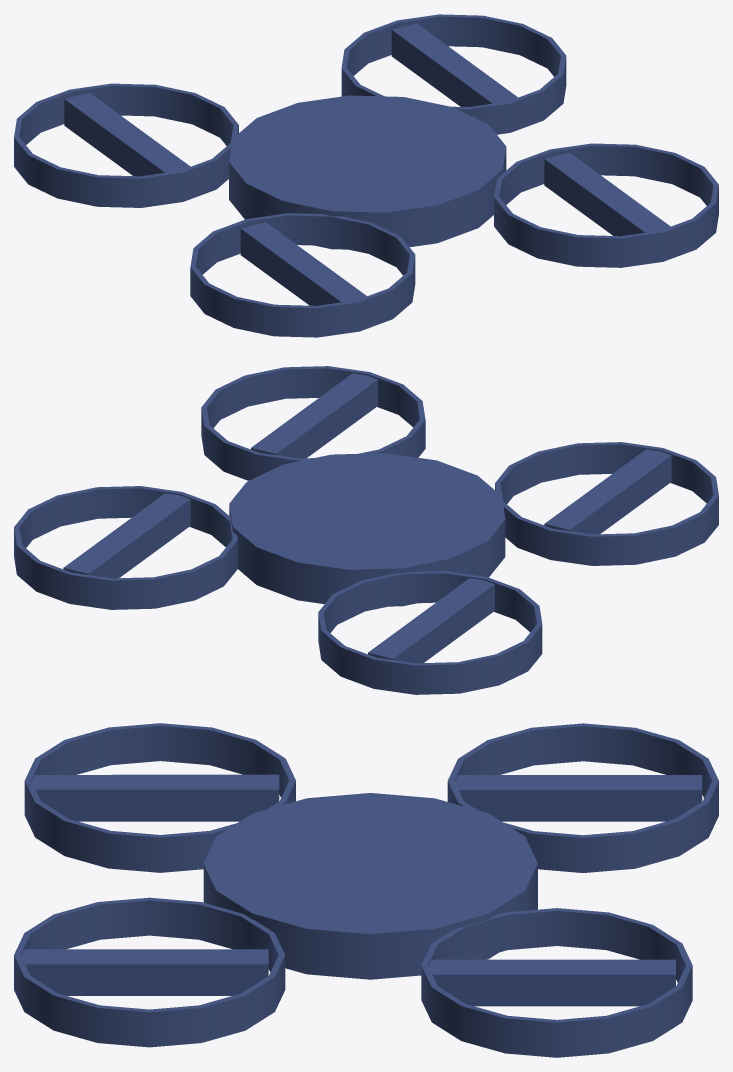
File: Drone.fbx
The picture shows the model from 3 angles, top to bottom: view 1: azimuth 30°, elevation 25°; view 2: azimuth 150°, elevation 25°; view 3: azimuth 270°, elevation 25°; orthographic projection. The views are drawn at different scales.
Visible parts, largest first — view 1: DroneBaseMesh, Drone4Mesh, Drone2Mesh, Drone1Mesh, Drone3Mesh; view 2: DroneBaseMesh, Drone4Mesh, Drone2Mesh, Drone1Mesh, Drone3Mesh; view 3: DroneBaseMesh, Drone4Mesh, Drone2Mesh, Drone3Mesh, Drone1Mesh.
Boxes of the visible parts, bbox=[...] form: DroneBaseMesh: bbox=[14, 14, 718, 337]; Drone4Mesh: bbox=[391, 23, 517, 106]; Drone2Mesh: bbox=[240, 222, 366, 305]; Drone1Mesh: bbox=[64, 93, 190, 176]; Drone3Mesh: bbox=[544, 152, 670, 236]; DroneBaseMesh: bbox=[14, 366, 718, 694]; Drone4Mesh: bbox=[63, 493, 190, 578]; Drone2Mesh: bbox=[544, 449, 671, 534]; Drone1Mesh: bbox=[368, 578, 494, 663]; Drone3Mesh: bbox=[251, 373, 377, 458]; DroneBaseMesh: bbox=[14, 723, 718, 1057]; Drone4Mesh: bbox=[428, 959, 675, 1006]; Drone2Mesh: bbox=[32, 774, 279, 821]; Drone3Mesh: bbox=[21, 949, 268, 995]; Drone1Mesh: bbox=[455, 775, 702, 821].
Bounding box in the file's own units: 424 × 30.03 × 422.
